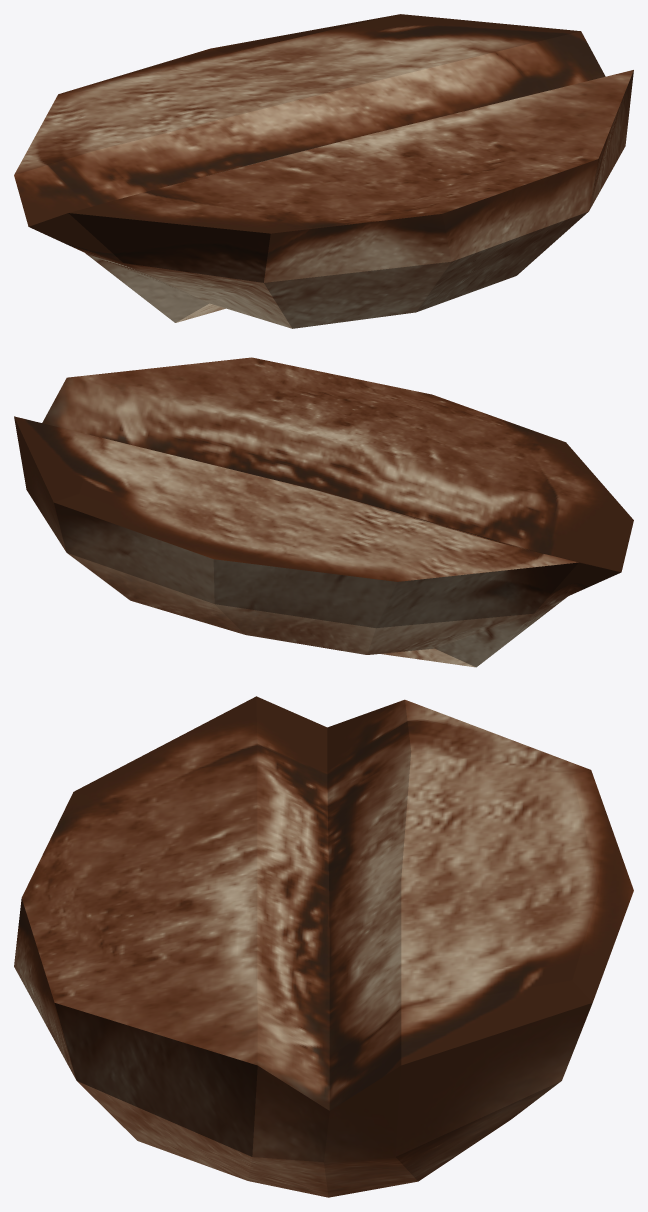
The model's file is coffee_bean.glb.
The picture shows the model from 3 angles, top to bottom: view 1: azimuth 30°, elevation 25°; view 2: azimuth 150°, elevation 25°; view 3: azimuth 270°, elevation 25°; orthographic projection. The views are drawn at different scales.
Visible parts, largest first — view 1: Circle; view 2: Circle; view 3: Circle.
Boxes of the visible parts, x1=… form: Circle: x1=14, y1=14, x2=633, y2=328; Circle: x1=14, y1=357, x2=633, y2=667; Circle: x1=14, y1=696, x2=633, y2=1197.
Size of the model in its own units: 1.92 by 0.5238 by 1.31.
1 material, 1 textured.
